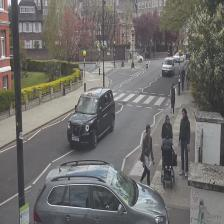person: (139, 124, 155, 188), (178, 108, 190, 176), (161, 114, 173, 173), (170, 83, 177, 116)
